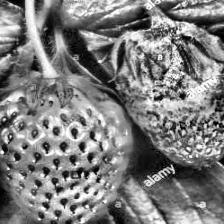Gray Mold: (108, 9, 224, 166)
